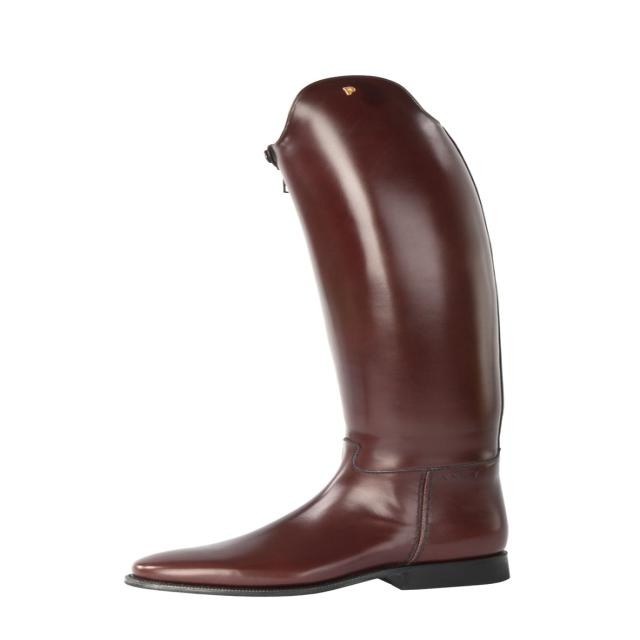boot: (105, 59, 564, 621)
